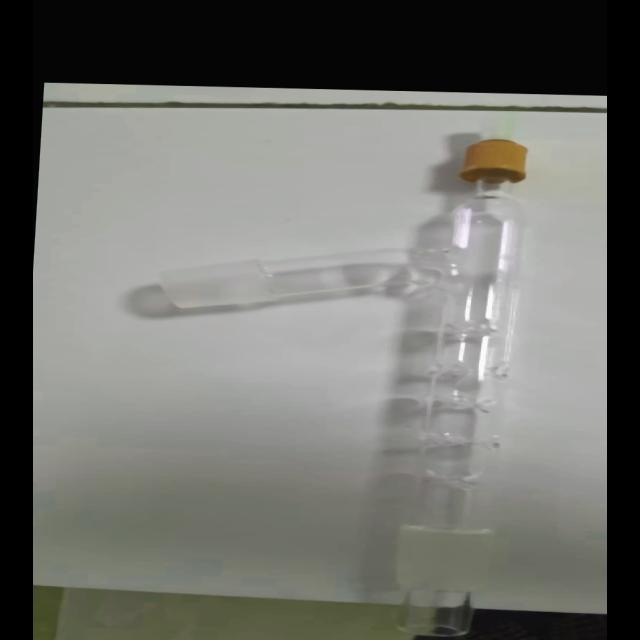Atmospherical Fractional Distillation: (113, 120, 567, 640)
